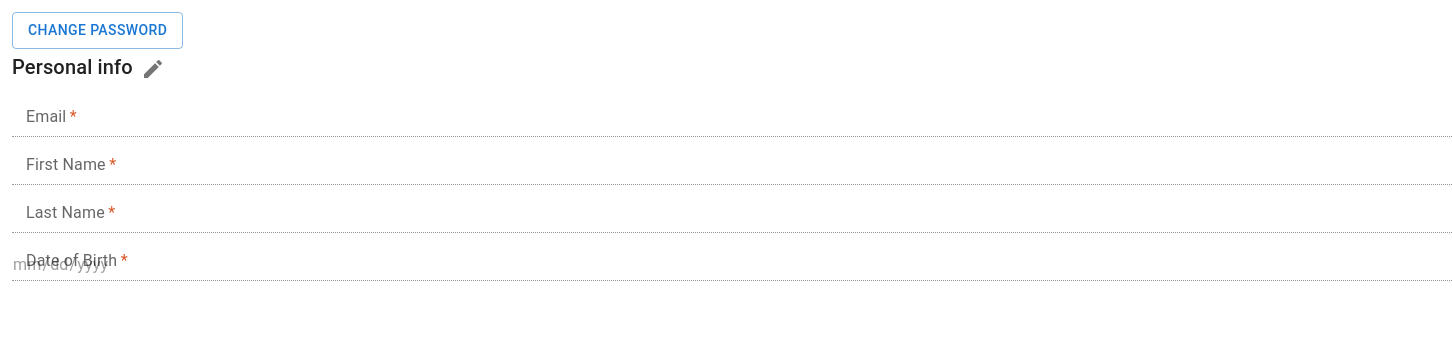
Scenario: Profile › toggles edit mode
The width and height of the screenshot is (1452, 361).
Expected: the field labelled "Email *" is disabled, top-left (12, 104), bottom-right (1444, 136)
What coordinates should you click on to do the following:
click the button named "edit personal info"
I would click on:
 (153, 68)
Its box is top-left (133, 48), bottom-right (173, 88).
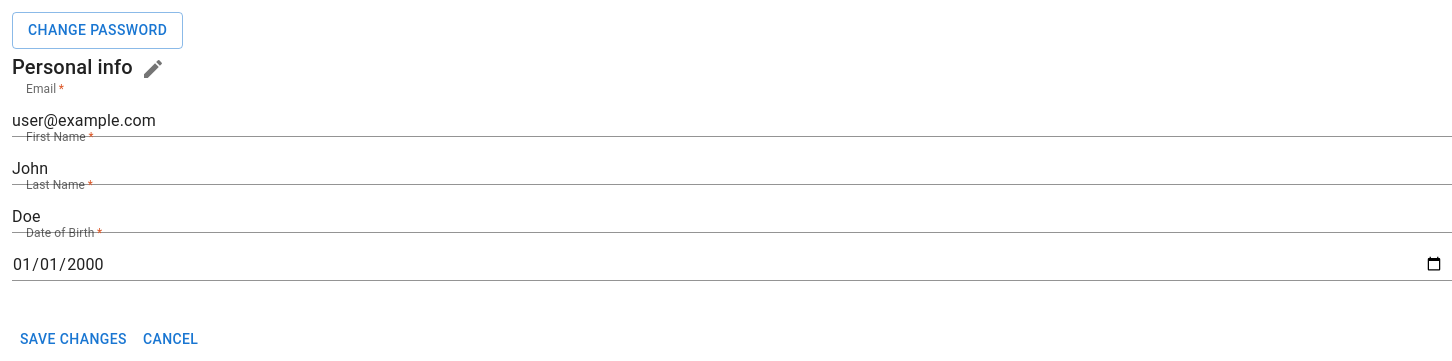
Now the field labelled "Email *" is enabled, box top-left (12, 104), bottom-right (1444, 136)
